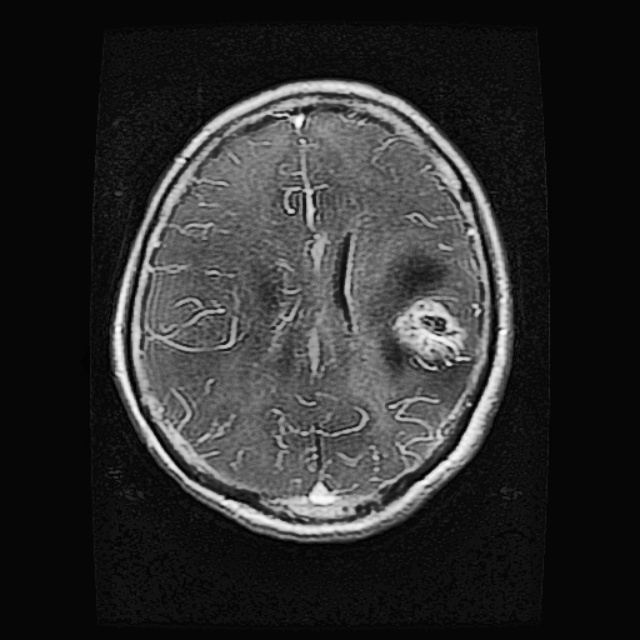Glioma: (399, 297, 467, 362)
